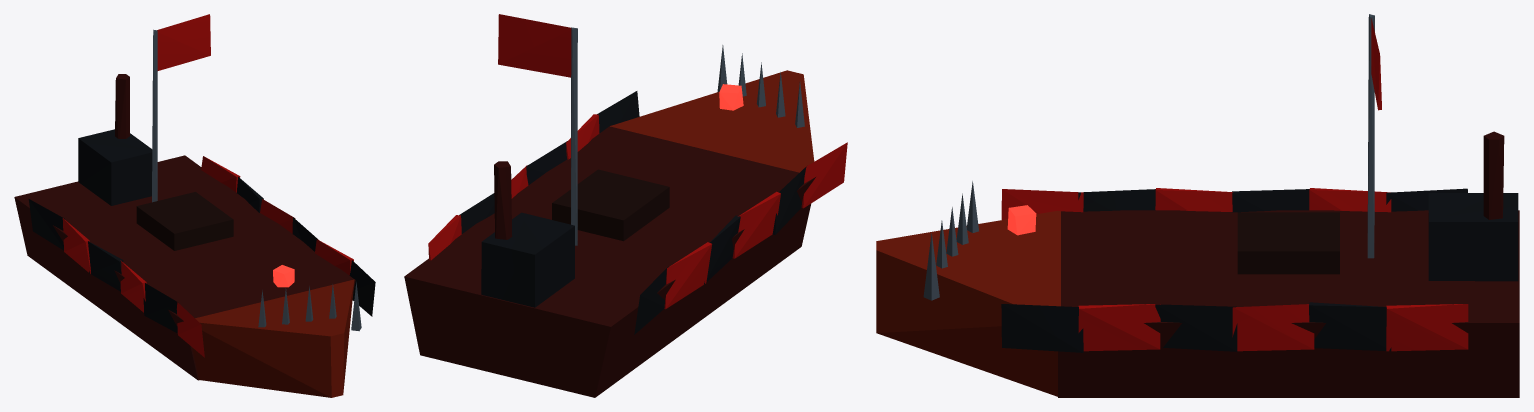
Rendered from tb_raider_skiff.three-web-toon.lod50.glb.
3 views of the same model, side by side, from view 1: azimuth 30°, elevation 25°; view 2: azimuth 150°, elevation 25°; view 3: azimuth 270°, elevation 25° (orthographic). The views are drawn at different scales.
Parts seen in each view (by area): view 1: raider_body_lod; view 2: raider_body_lod; view 3: raider_body_lod.
Boxes of the visible parts, left/top/right/bottom form: raider_body_lod: left=14, top=14, right=375, bottom=397; raider_body_lod: left=404, top=14, right=847, bottom=397; raider_body_lod: left=876, top=14, right=1519, bottom=397.
Size of the model in its own units: 2.79 by 3.6 by 6.27.
